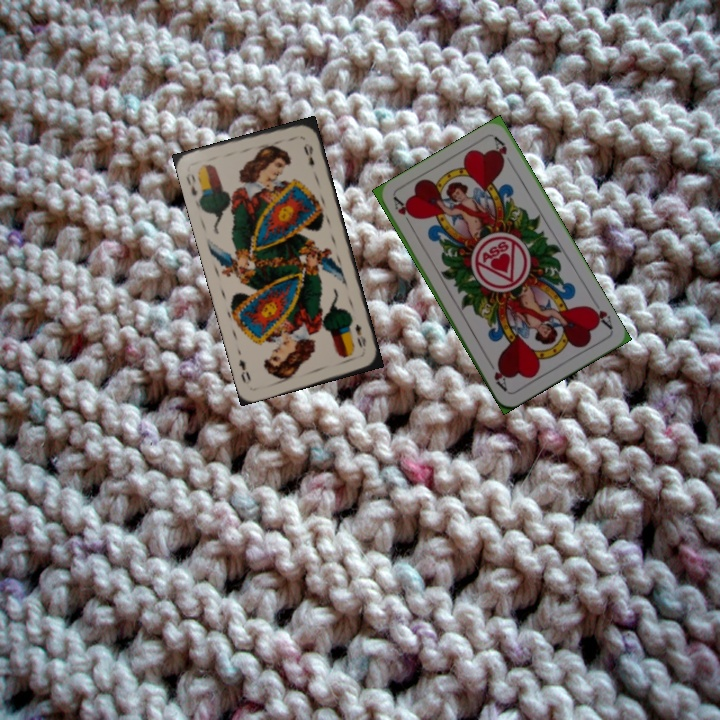EO: (351, 320, 369, 351), (182, 169, 200, 198)
HA: (389, 193, 415, 231), (584, 301, 615, 332)
